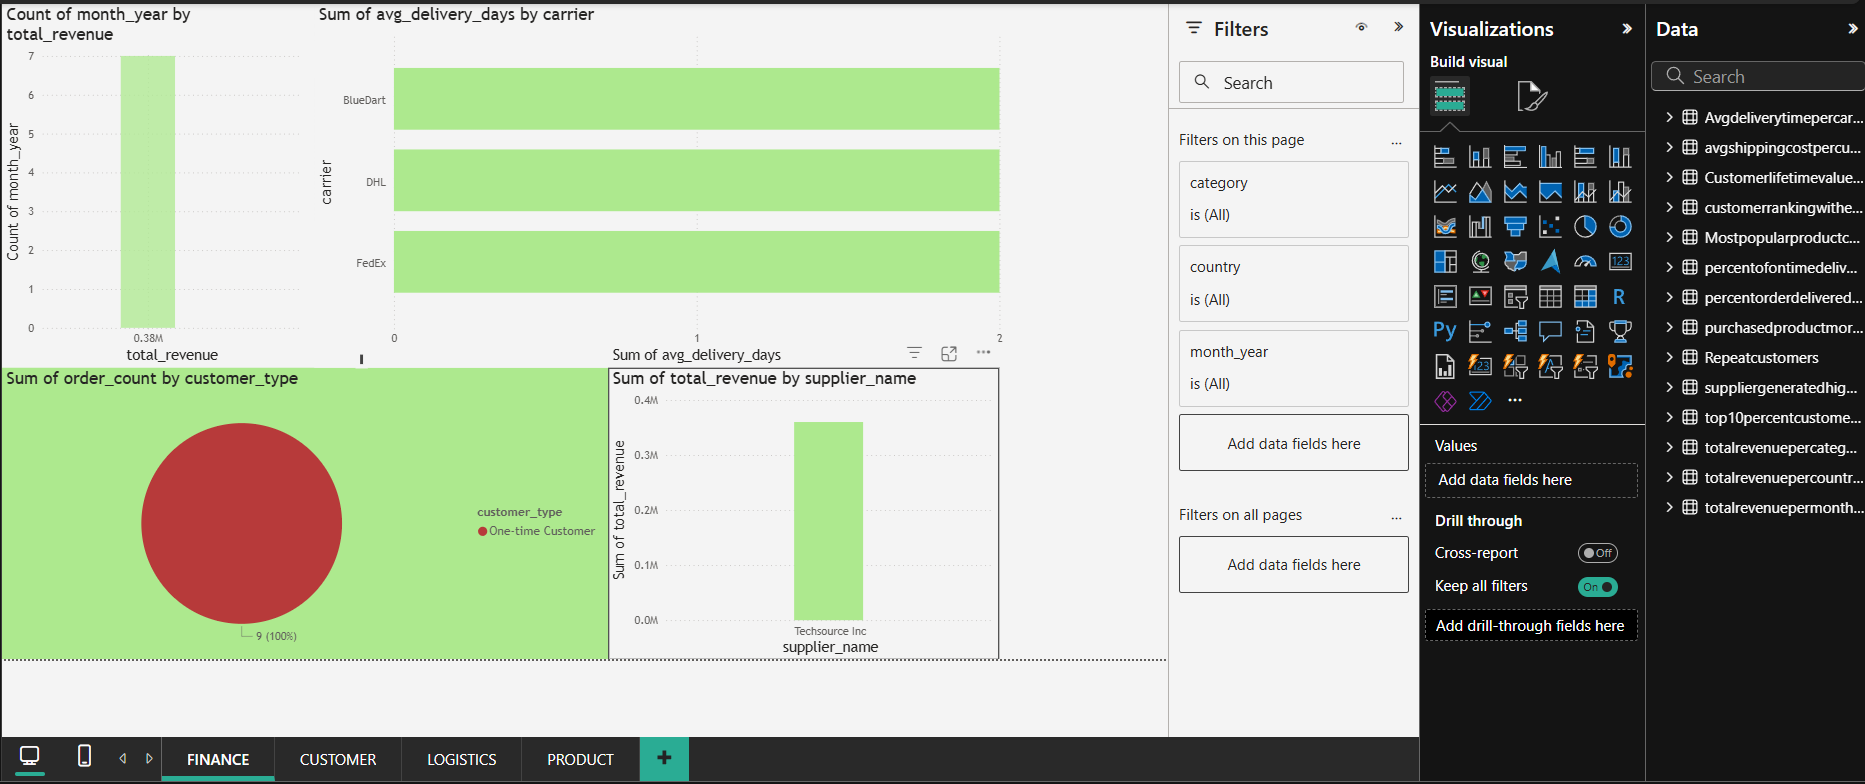

Layout of this report page (visuals, bound fields, positions):
{"tool":"powerbi","page":{"name":"FINANCE","canvas":[1280,720],"ordinal":0},"visuals":[{"type":"lineClusteredColumnComboChart","fields":{"Category":["totalrevenuepercountrycustomerandeachcountrycontribution.total_revenue"],"Y":["CountNonNull(totalrevenuepercategorypermonth.month_year)"]},"box":[0,0,333.5,399.1],"z":0},{"type":"pieChart","fields":{"Category":["Repeatcustomers.customer_type"],"Y":["Sum(Repeatcustomers.order_count)"]},"box":[0,399.1,665.7,320.7],"z":1000},{"type":"barChart","fields":{"Y":["Sum(Avgdeliverytimepercarrier.avg_delivery_days)"],"Category":["Avgdeliverytimepercarrier.carrier"]},"box":[343.5,0,761.2,399.1],"z":2000},{"type":"lineClusteredColumnComboChart","fields":{"Category":["suppliergeneratedhighestrevenue.supplier_name"],"Y":["Sum(suppliergeneratedhighestrevenue.total_revenue)"]},"box":[665.7,399.1,429,320.7],"z":3000},{"type":"textbox","box":[387.7,380.6,12.8,20],"z":9000}]}

Visuals, with their boxes on the page's 1280x720 design canvas (x1, y1, x2, y2). These are canvas units, not pixel positions in the 1865x784 screenshot, which may show the page scaled, cropped or inside an application window:
lineClusteredColumnComboChart - totalrevenuepercountrycustomerandeachcountrycontribution.total_revenue x CountNonNull(totalrevenuepercategorypermonth.month_year): [0,0,334,399]
pieChart - Repeatcustomers.customer_type x Sum(Repeatcustomers.order_count): [0,399,666,720]
barChart - Sum(Avgdeliverytimepercarrier.avg_delivery_days) x Avgdeliverytimepercarrier.carrier: [344,0,1105,399]
lineClusteredColumnComboChart - suppliergeneratedhighestrevenue.supplier_name x Sum(suppliergeneratedhighestrevenue.total_revenue): [666,399,1095,720]
textbox: [388,381,400,401]
